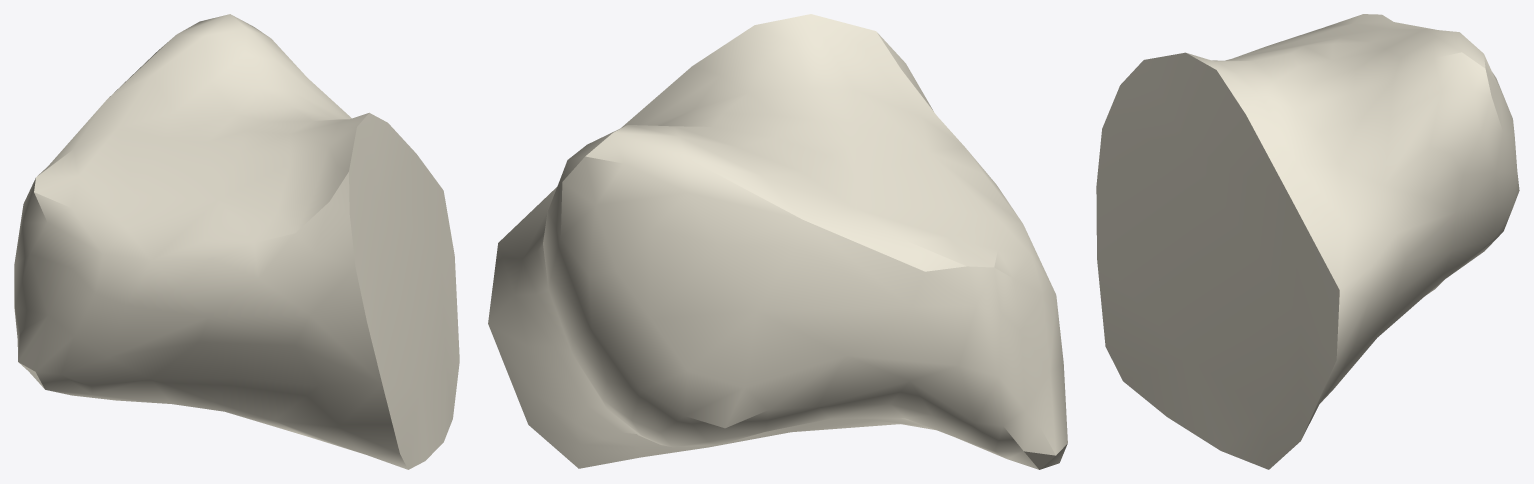
The model's file is fma12093_mm2397m.glb.
3 views of the same model, side by side, from view 1: azimuth 30°, elevation 25°; view 2: azimuth 150°, elevation 25°; view 3: azimuth 270°, elevation 25° (orthographic). The views are drawn at different scales.
Parts seen in each view (by area): view 1: FMA12093_MM2397M; view 2: FMA12093_MM2397M; view 3: FMA12093_MM2397M.
Part boxes in pixels (x1=…): FMA12093_MM2397M: x1=14, y1=14, x2=459, y2=469; FMA12093_MM2397M: x1=488, y1=14, x2=1067, y2=469; FMA12093_MM2397M: x1=1096, y1=14, x2=1519, y2=469.
Size of the model in its own units: 0.0137 by 0.0109 by 0.0116.
